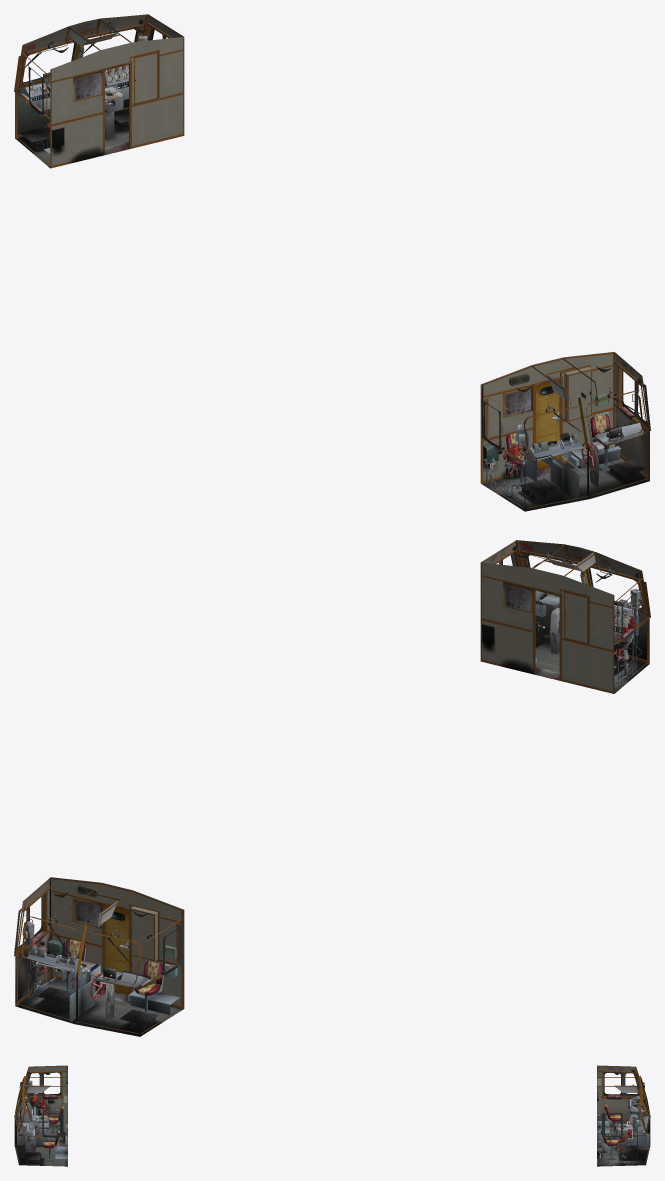
File: VL60k-cabview.gltf
The picture shows the model from 3 angles, top to bottom: view 1: azimuth 30°, elevation 25°; view 2: azimuth 150°, elevation 25°; view 3: azimuth 270°, elevation 25°; orthographic projection. The views are drawn at different scales.
Visible parts, largest first — view 1: Cab1_korpus, Cab2_korpus, Cab2_Pol_kab, Cab2_Pult_mainKorp, Cab1_Pult_mainKorp, Cab2_Sidushka, Cab2_Podnognik, Cab1_Pol_kab, Cab1_Podnognik; view 2: Cab2_korpus, Cab1_korpus, Cab1_Pol_kab, Cab1_Pult_mainKorp, Cab2_Pol_kab, Cab1_Sidushka, Cab1_Podnognik, Cab1_Blok_ALSN; view 3: Cab1_korpus, Cab2_korpus, Cab2_Pol_kab, Cab1_Pol_kab, Cab1_Pult_mainKorp, Cab2_Pult_mainKorp, Cab1_Sidushka, Cab2_Sidushka, Cab1_Fortochki, Cab2_Fortochki, Cab2_Pult_TCHPM, Cab1_Pult_TCHPM (+4 smaller).
Boxes of the visible parts, <box> form: Cab1_korpus: <box>14,14,184,168</box>; Cab2_korpus: <box>480,352,650,508</box>; Cab2_Pol_kab: <box>482,457,649,511</box>; Cab2_Pult_mainKorp: <box>519,433,585,501</box>; Cab1_Pult_mainKorp: <box>105,65,128,138</box>; Cab2_Sidushka: <box>505,414,618,489</box>; Cab2_Podnognik: <box>519,459,645,500</box>; Cab1_Pol_kab: <box>16,124,128,167</box>; Cab1_Podnognik: <box>19,108,128,149</box>; Cab2_korpus: <box>480,540,650,693</box>; Cab1_korpus: <box>14,877,184,1033</box>; Cab1_Pol_kab: <box>15,977,183,1036</box>; Cab1_Pult_mainKorp: <box>26,945,100,1022</box>; Cab2_Pol_kab: <box>535,637,648,693</box>; Cab1_Sidushka: <box>57,939,163,1014</box>; Cab1_Podnognik: <box>36,987,157,1030</box>; Cab1_Blok_ALSN: <box>128,990,179,1014</box>; Cab1_korpus: <box>597,1065,650,1165</box>; Cab2_korpus: <box>14,1065,67,1165</box>; Cab2_Pol_kab: <box>15,1127,67,1166</box>; Cab1_Pol_kab: <box>597,1127,649,1166</box>; Cab1_Pult_mainKorp: <box>615,1111,649,1149</box>; Cab2_Pult_mainKorp: <box>17,1095,49,1145</box>; Cab1_Sidushka: <box>601,1103,620,1159</box>; Cab2_Sidushka: <box>43,1105,63,1161</box>; Cab1_Fortochki: <box>602,1072,623,1136</box>; Cab2_Fortochki: <box>41,1072,62,1136</box>; Cab2_Pult_TCHPM: <box>18,1123,36,1135</box>; Cab1_Pult_TCHPM: <box>628,1095,646,1115</box>.
Size of the model in its own units: 3.04 by 2.22 by 19.49.
Materials: 12 (12 with a texture image).
